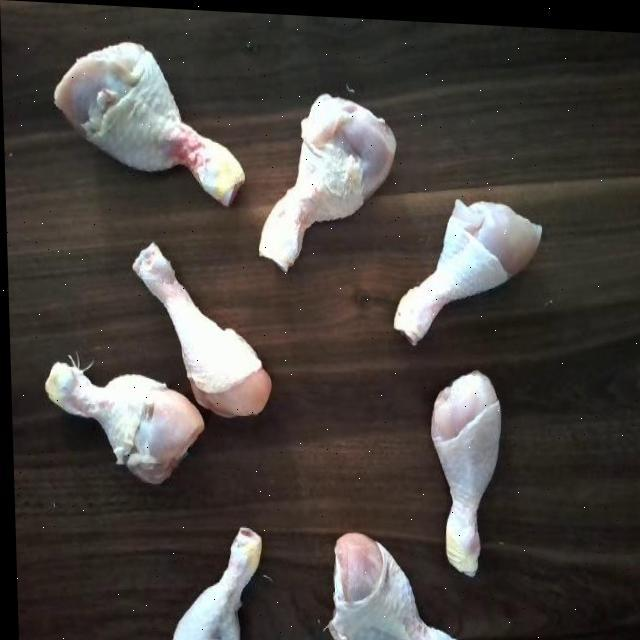leg: (38, 30, 250, 206), (259, 69, 397, 284), (124, 236, 272, 424), (391, 172, 538, 349), (38, 348, 196, 496), (316, 518, 473, 640), (417, 357, 505, 574), (166, 514, 273, 640)
